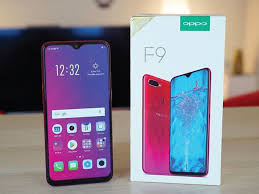oppo: (42, 37, 118, 189)
